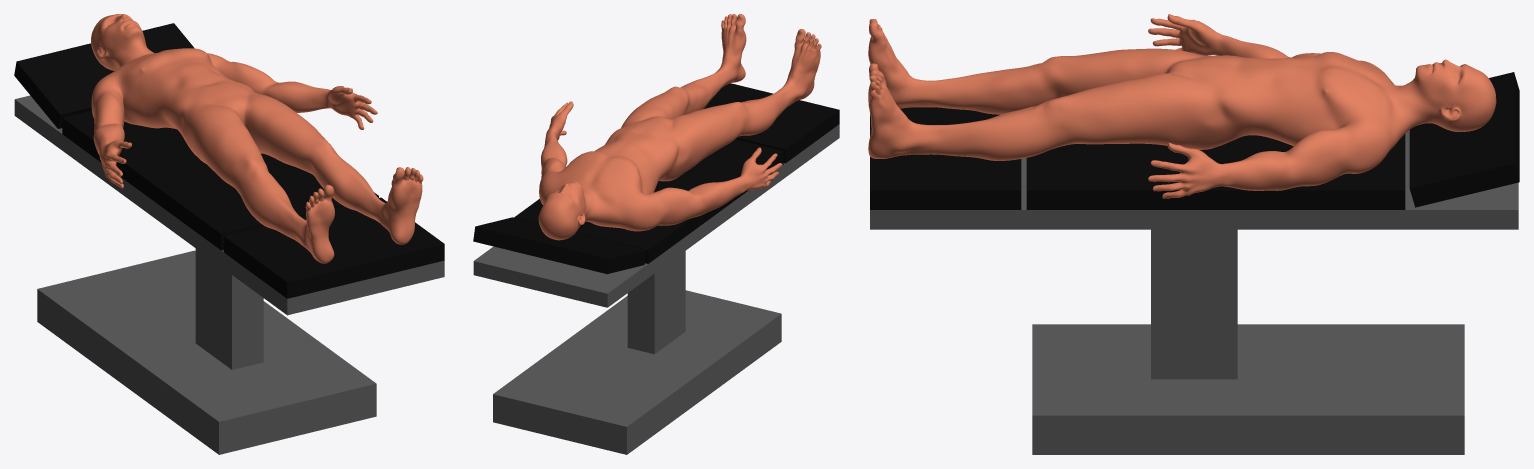
The model's file is SurgeryTableWithPerson.obj.
The picture shows the model from 3 angles, left to right: view 1: azimuth 30°, elevation 25°; view 2: azimuth 150°, elevation 25°; view 3: azimuth 270°, elevation 25°; orthographic projection. The views are drawn at different scales.
Visible parts, largest first — view 1: FinalBaseMesh, Base, BeforeBed.001, BeforeBed.003, BeforeBed, Support, BeforeBed.002; view 2: FinalBaseMesh, Base, BeforeBed, BeforeBed.001, BeforeBed.002, Support, BeforeBed.003; view 3: FinalBaseMesh, Base, BeforeBed.001, BeforeBed, Support, BeforeBed.003, BeforeBed.002.
Boxes of the visible parts, x1,y1,x2,y2 form: FinalBaseMesh: [91, 14, 423, 263]; Base: [37, 250, 376, 454]; BeforeBed.001: [62, 110, 378, 250]; BeforeBed.003: [223, 197, 444, 298]; BeforeBed: [14, 95, 444, 315]; Support: [195, 248, 263, 369]; BeforeBed.002: [14, 23, 194, 128]; FinalBaseMesh: [538, 14, 821, 240]; Base: [493, 290, 781, 454]; BeforeBed: [473, 124, 839, 307]; BeforeBed.001: [514, 139, 783, 263]; BeforeBed.002: [473, 217, 646, 274]; Support: [627, 251, 685, 354]; BeforeBed.003: [704, 83, 839, 163]; FinalBaseMesh: [868, 14, 1496, 198]; Base: [1032, 324, 1464, 454]; BeforeBed.001: [1026, 134, 1405, 209]; BeforeBed: [870, 130, 1518, 229]; Support: [1151, 229, 1237, 379]; BeforeBed.003: [870, 107, 1021, 209]; BeforeBed.002: [1409, 72, 1519, 207].
Size of the model in its own units: 3.27 by 3.74 by 6.02.
